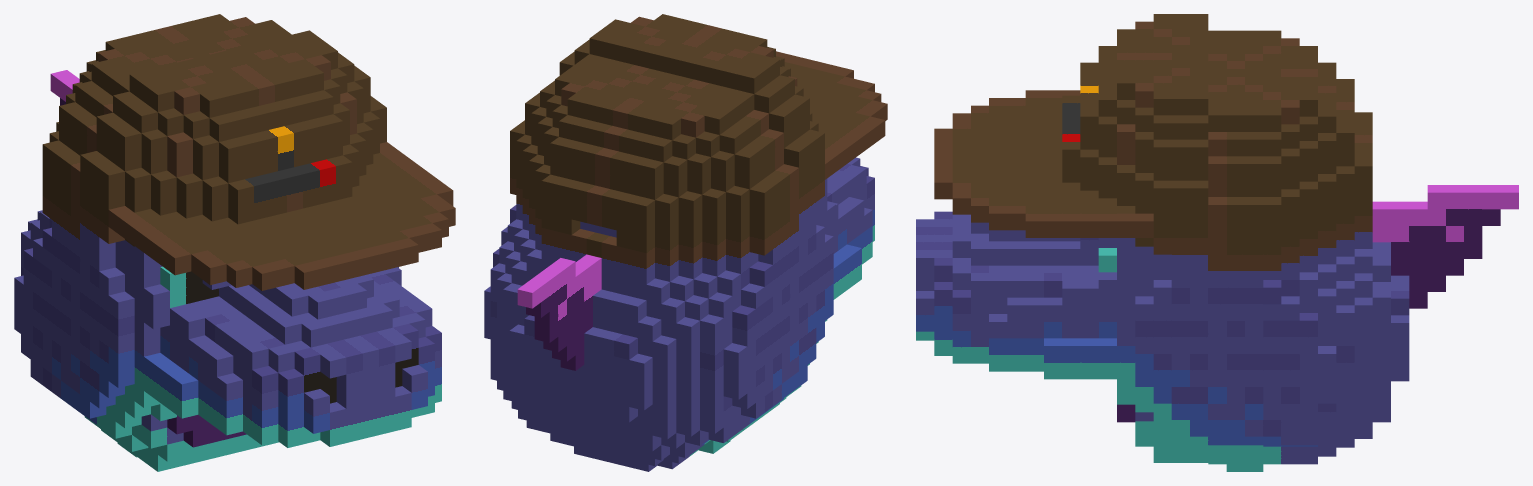
Rendered from wsb hat_rainbow shades.gltf.
3 renders of one model, left to right at view 1: azimuth 30°, elevation 25°; view 2: azimuth 150°, elevation 25°; view 3: azimuth 270°, elevation 25°, orthographic. The views are drawn at different scales.
Visible parts, largest first — view 1: C60_H_WSB_CoolDude_3DG_RBShade-Mesh; view 2: C60_H_WSB_CoolDude_3DG_RBShade-Mesh; view 3: C60_H_WSB_CoolDude_3DG_RBShade-Mesh.
Boxes of the visible parts, x1,y1,x2,y2 form: C60_H_WSB_CoolDude_3DG_RBShade-Mesh: (14, 14, 455, 471); C60_H_WSB_CoolDude_3DG_RBShade-Mesh: (484, 14, 887, 471); C60_H_WSB_CoolDude_3DG_RBShade-Mesh: (916, 14, 1518, 471).
Size of the model in its own units: 17 by 23 by 33.
1 material, 1 textured.
